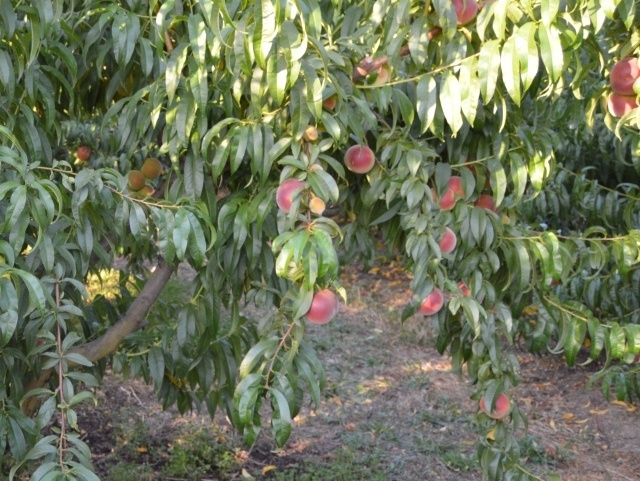peach: (271, 175, 314, 218), (606, 47, 639, 102), (303, 281, 340, 326), (601, 84, 639, 126), (341, 140, 378, 177), (475, 387, 512, 422), (416, 279, 447, 319), (433, 222, 462, 259), (425, 182, 457, 215), (444, 170, 473, 204), (445, 1, 480, 28), (139, 156, 166, 184), (297, 121, 324, 146), (474, 191, 502, 215), (304, 192, 328, 218), (125, 167, 151, 189), (75, 140, 95, 165), (136, 181, 159, 202)
